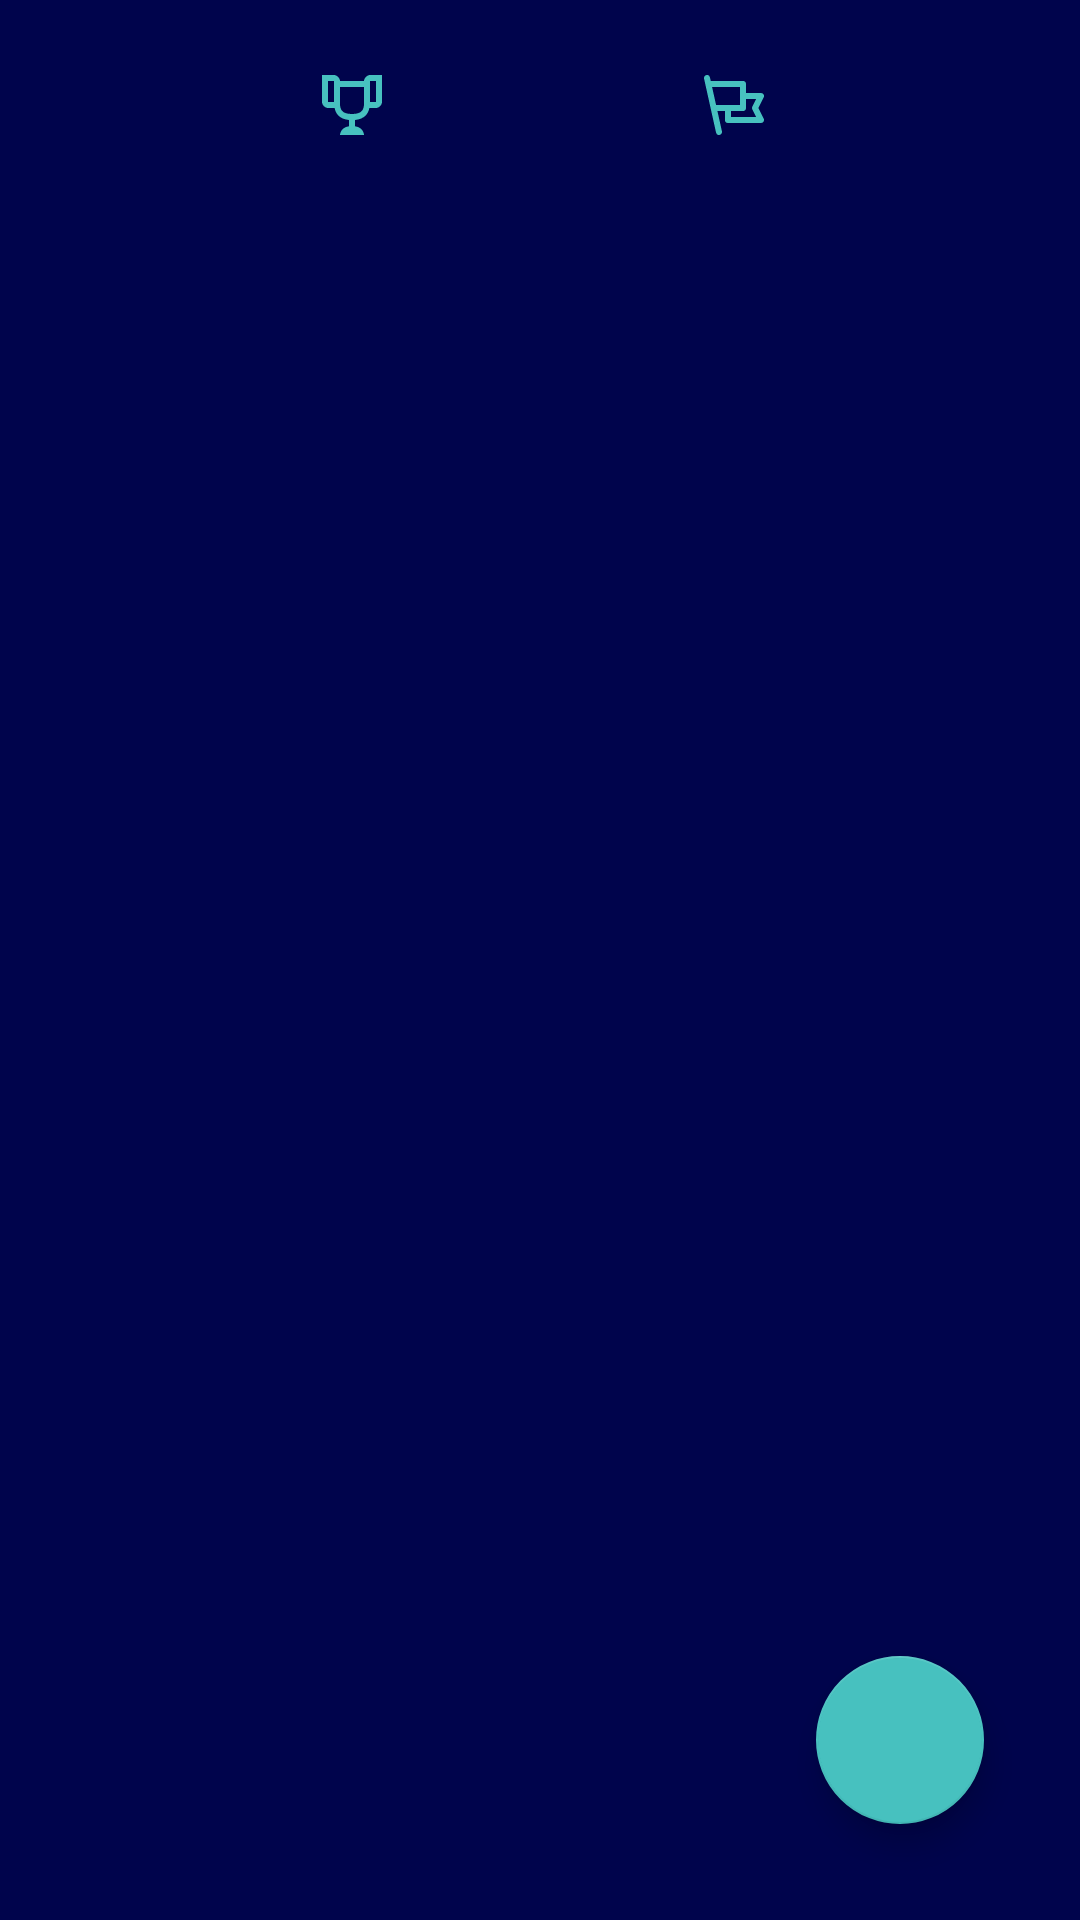

Where to tap for icons on this 1080 × 1920 app screen, as (x=x, y=y):
flag: (x=734, y=105)
trophy: (x=352, y=105)
